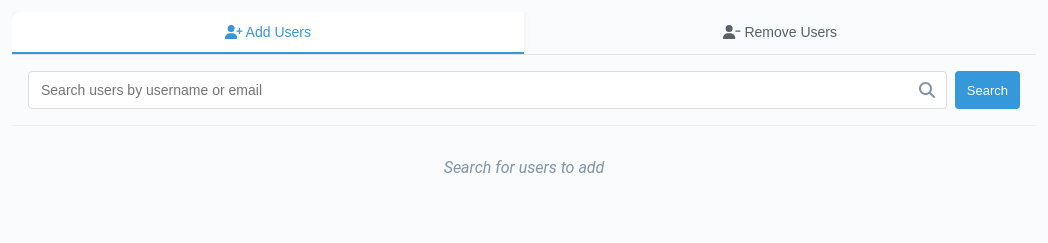
Test: ManageCollaborators Component › handles API errors gracefully during search
Note: Submit search with error
Type "test" into the field with placeholder "Search users by username or email" at (487, 90), box [28, 71, 947, 109]
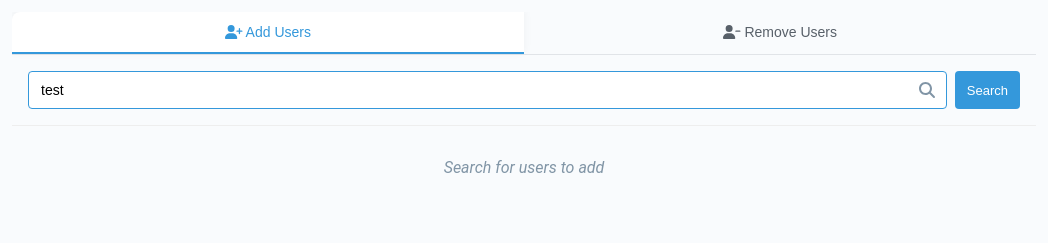
Click the button "Search" at (987, 90), box [955, 71, 1020, 109]
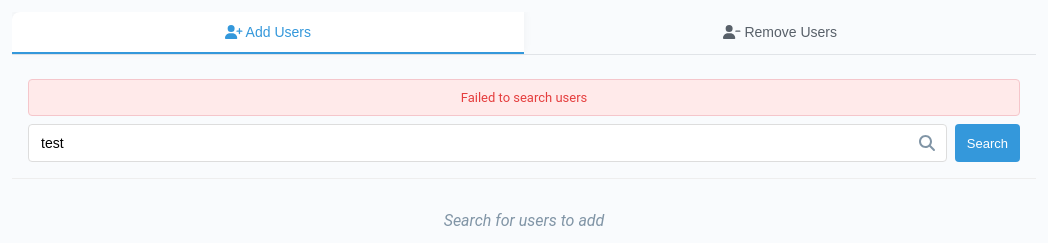
Expected: the text "Failed to search users" is shown, [28, 79, 1020, 116]
